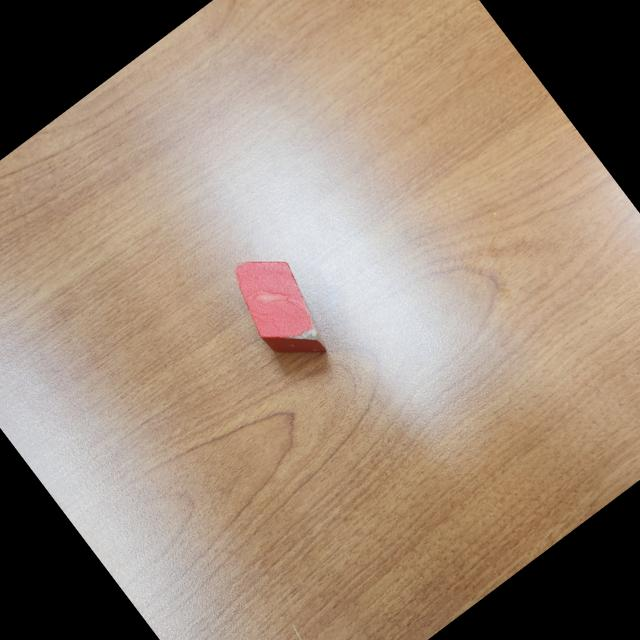broken: (218, 239, 344, 375)
